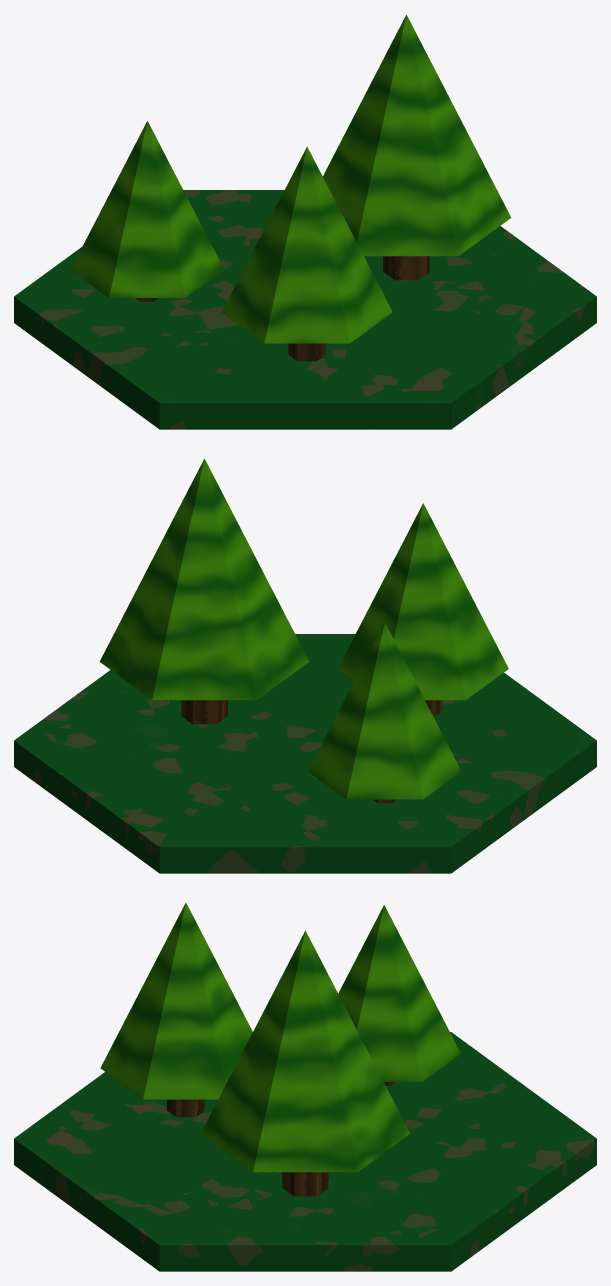
Rendered from Forest_Alt.glb.
3 views of the same model, one above another, from view 1: azimuth 30°, elevation 25°; view 2: azimuth 150°, elevation 25°; view 3: azimuth 270°, elevation 25° (orthographic).
Parts seen in each view (by area): view 1: 10 Forest; view 2: 10 Forest; view 3: 10 Forest.
Boxes of the visible parts, <box> form: 10 Forest: <box>14,14,596,429</box>; 10 Forest: <box>14,458,596,873</box>; 10 Forest: <box>14,903,596,1271</box>.
Bounding box in the file's own units: 1.73 × 1.07 × 2.
Materials: 2 (2 with a texture image).
